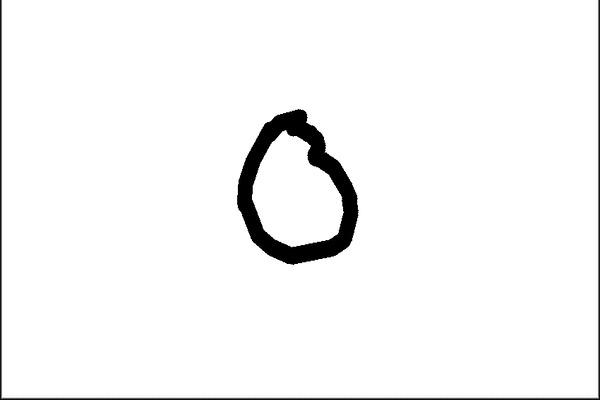O: (222, 96, 374, 269)
